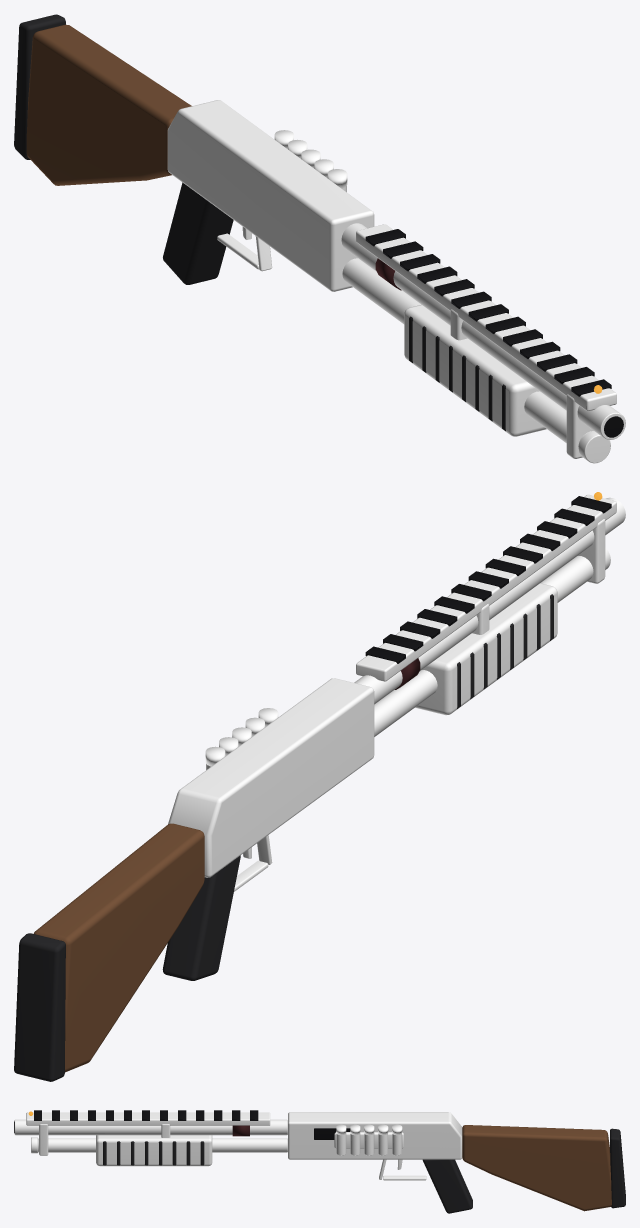
The model's file is shotgun.glb.
3 views of the same model, one above another, from view 1: azimuth 30°, elevation 25°; view 2: azimuth 150°, elevation 25°; view 3: azimuth 270°, elevation 25° (orthographic). The views are drawn at different scales.
Parts seen in each view (by area): view 1: receiver, stock, pump, heat_shield, grip, barrel, mag_tube, butt_pad, clamp, tube_cap; view 2: stock, receiver, butt_pad, pump, heat_shield, grip, barrel, mag_tube, clamp; view 3: stock, receiver, pump, barrel, heat_shield, mag_tube, grip, butt_pad, shell_holder, clamp, eject_port, guard_bottom (+6 smaller).
Part boxes in pixels (x1=…): receiver: x1=167, y1=100, x2=374, y2=291; stock: x1=26, y1=24, x2=191, y2=185; pump: x1=404, y1=304, x2=546, y2=436; heat_shield: x1=356, y1=224, x2=616, y2=411; grip: x1=163, y1=182, x2=233, y2=284; barrel: x1=341, y1=223, x2=625, y2=440; mag_tube: x1=342, y1=258, x2=590, y2=446; butt_pad: x1=14, y1=14, x2=65, y2=159; clamp: x1=566, y1=394, x2=593, y2=458; tube_cap: x1=578, y1=431, x2=610, y2=463; stock: x1=33, y1=823, x2=204, y2=1072; receiver: x1=168, y1=678, x2=374, y2=877; butt_pad: x1=14, y1=933, x2=65, y2=1081; pump: x1=415, y1=583, x2=557, y2=715; heat_shield: x1=356, y1=494, x2=616, y2=681; grip: x1=162, y1=855, x2=240, y2=980; barrel: x1=354, y1=497, x2=625, y2=704; mag_tube: x1=374, y1=556, x2=593, y2=736; clamp: x1=578, y1=519, x2=605, y2=583; stock: x1=462, y1=1125, x2=611, y2=1211; receiver: x1=288, y1=1112, x2=462, y2=1159; pump: x1=96, y1=1135, x2=212, y2=1166; barrel: x1=14, y1=1119, x2=287, y2=1135; heat_shield: x1=26, y1=1112, x2=270, y2=1125; mag_tube: x1=38, y1=1138, x2=287, y2=1152; grip: x1=422, y1=1159, x2=472, y2=1213; butt_pad: x1=610, y1=1128, x2=625, y2=1208; shell_holder: x1=334, y1=1132, x2=403, y2=1148; clamp: x1=39, y1=1124, x2=48, y2=1155; eject_port: x1=314, y1=1128, x2=350, y2=1139; guard_bottom: x1=383, y1=1175, x2=426, y2=1180.
Bounding box in the file's own units: 0.0708 × 0.1869 × 1.05.
